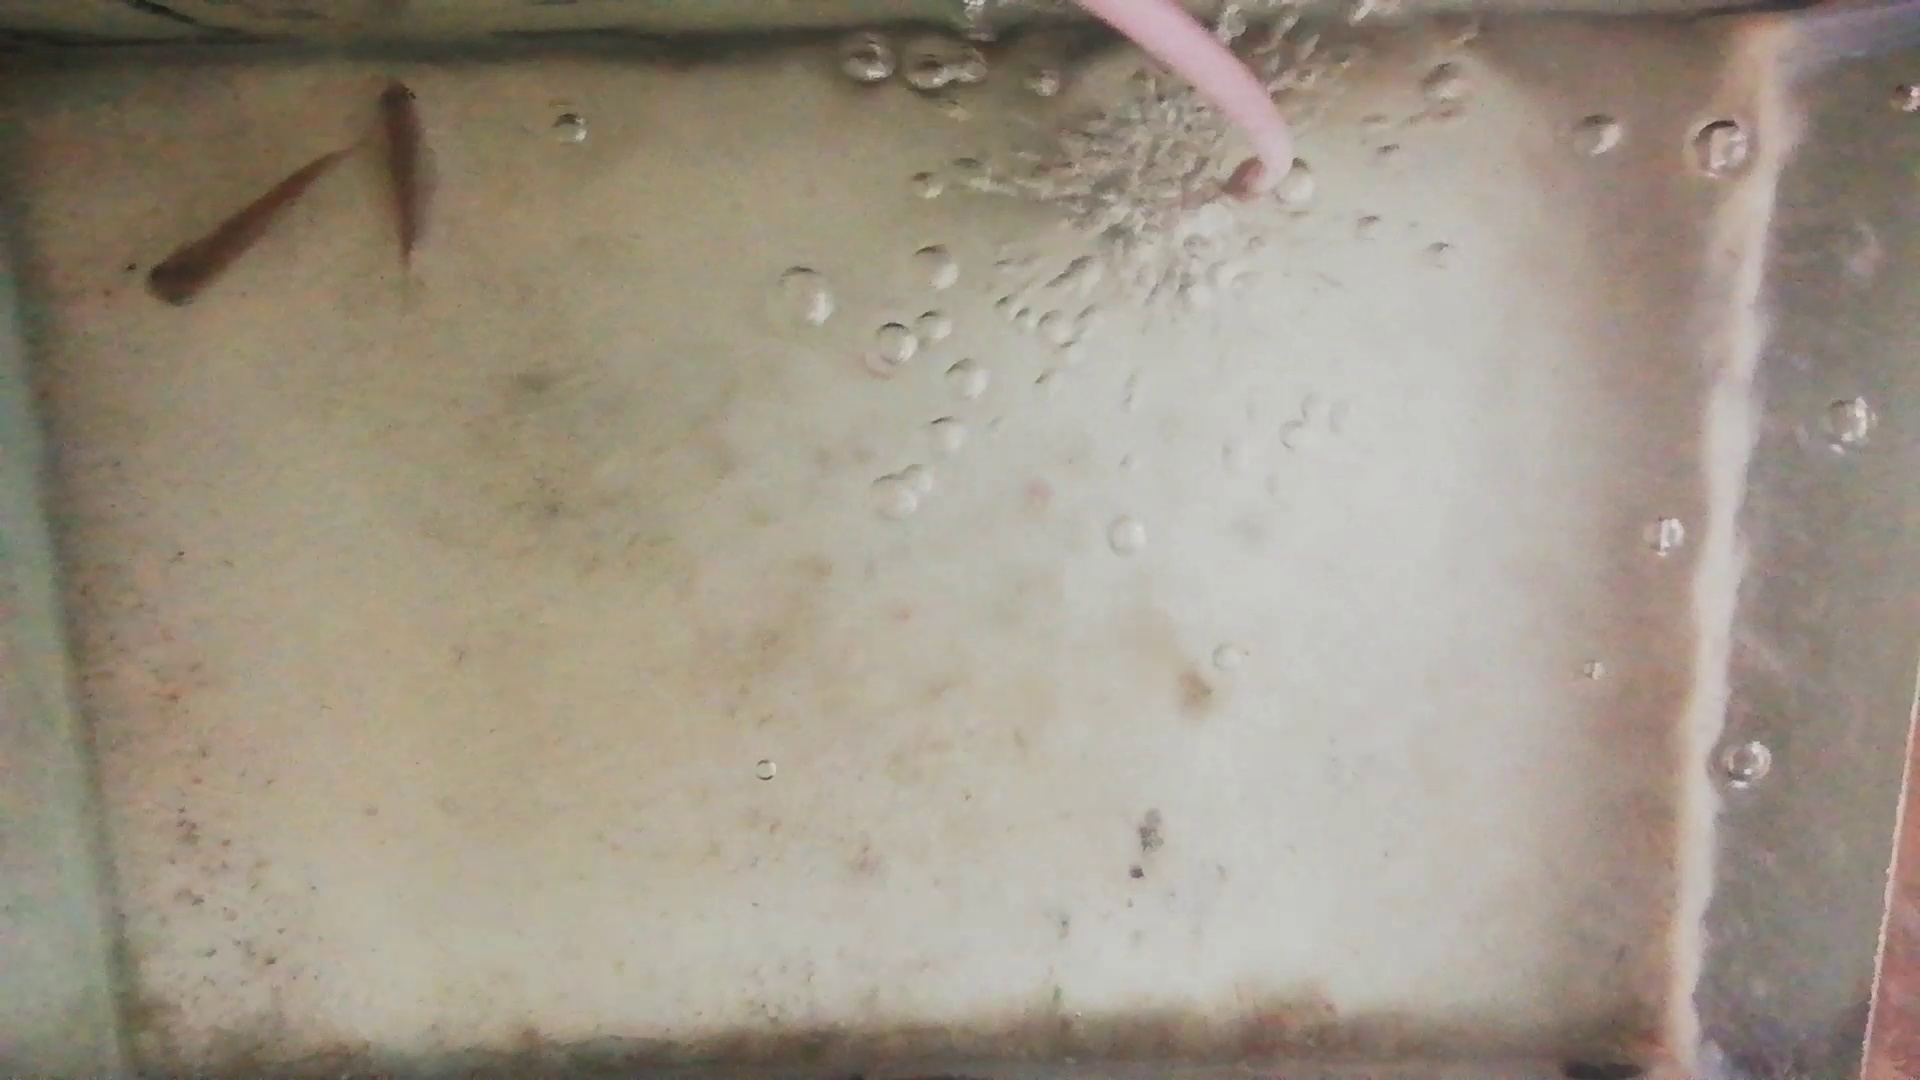fish: (144, 148, 338, 309), (378, 74, 434, 265)
